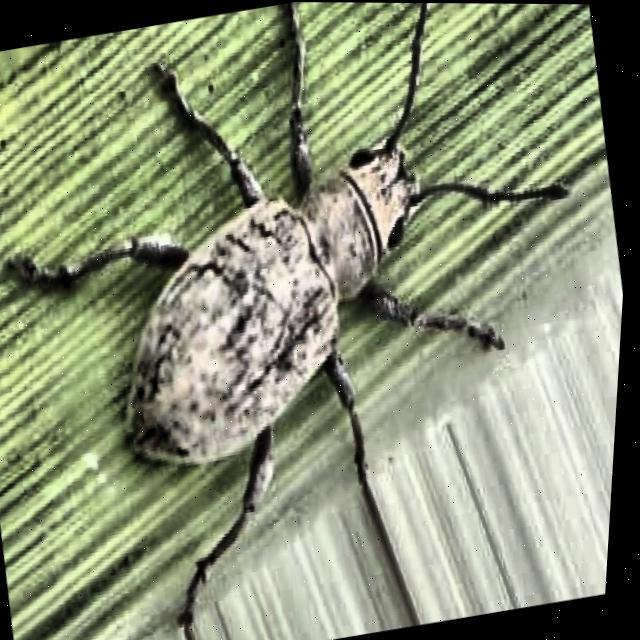Stink bug: (0, 0, 569, 640)
